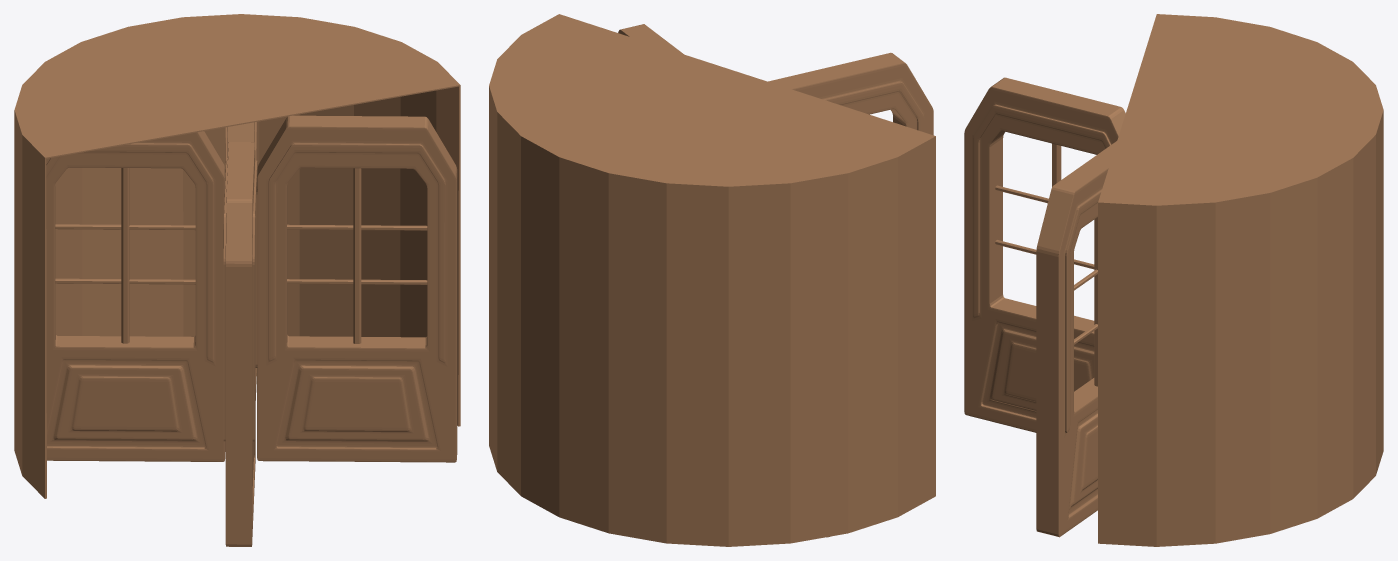
Rendered from door.fbx.
3 renders of one model, left to right at view 1: azimuth 30°, elevation 25°; view 2: azimuth 150°, elevation 25°; view 3: azimuth 270°, elevation 25°, orthographic. The views are drawn at different scales.
Parts seen in each view (by area): view 1: Cylinder, Cube.104; view 2: Cylinder, Cube.104; view 3: Cylinder, Cube.104.
Part boxes in pixels (x1,y1,x2,y2): Cylinder: (14, 14, 460, 498); Cube.104: (46, 115, 457, 546); Cylinder: (489, 14, 935, 546); Cube.104: (618, 24, 933, 537); Cylinder: (1098, 14, 1383, 546); Cube.104: (964, 77, 1125, 537).
Bounding box in the file's own units: 1196 × 1008 × 1106.
